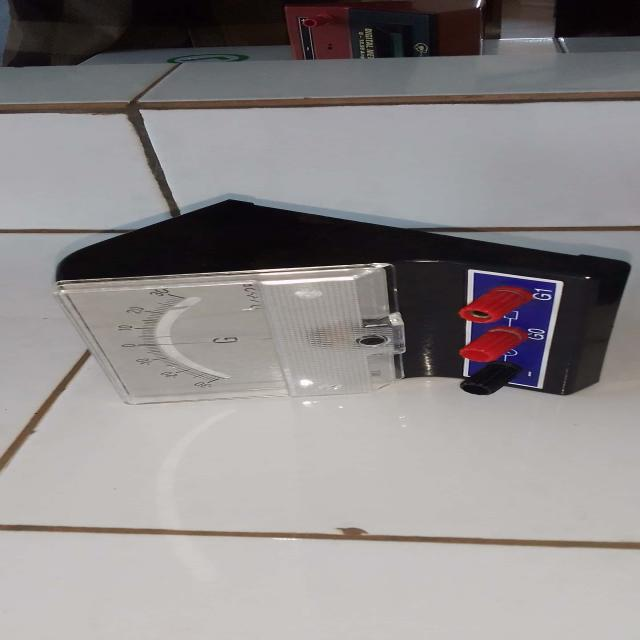Galvanometer: (21, 165, 624, 411)
